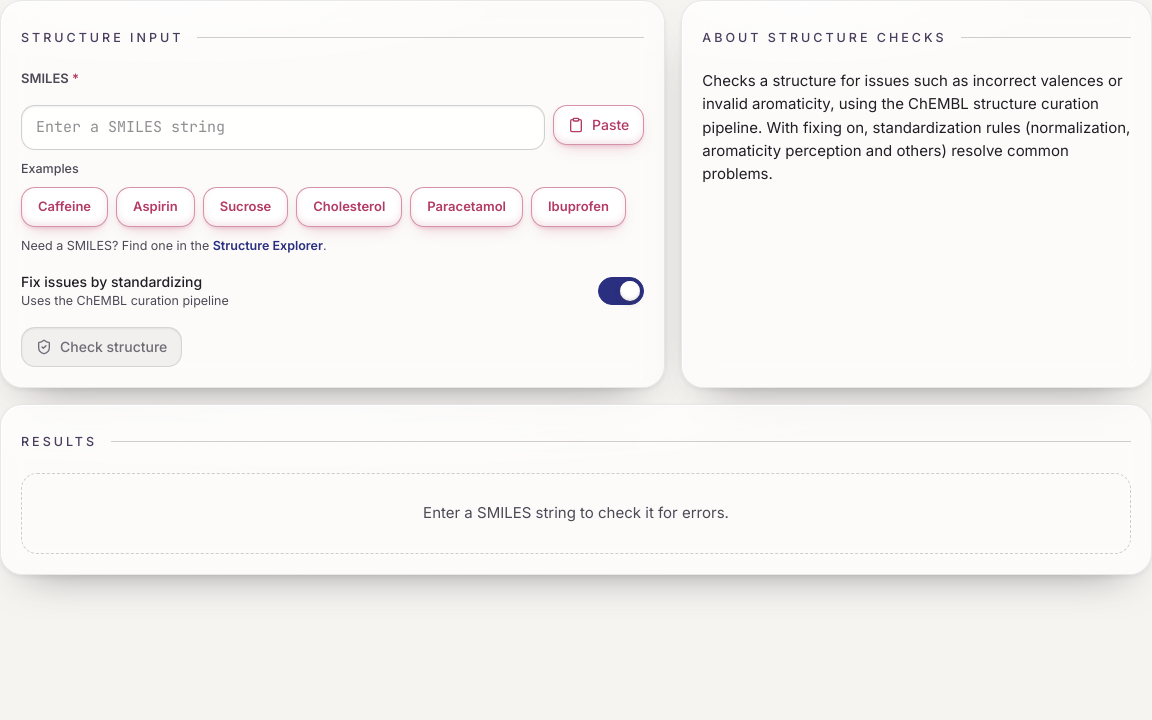
Scenario: StructureErrorView (bento) › reports the original and the standardized structure
Type "C1=CC=CC=C1" into the field labelled "SMILES *" at [283, 127], box [21,104,545,150]
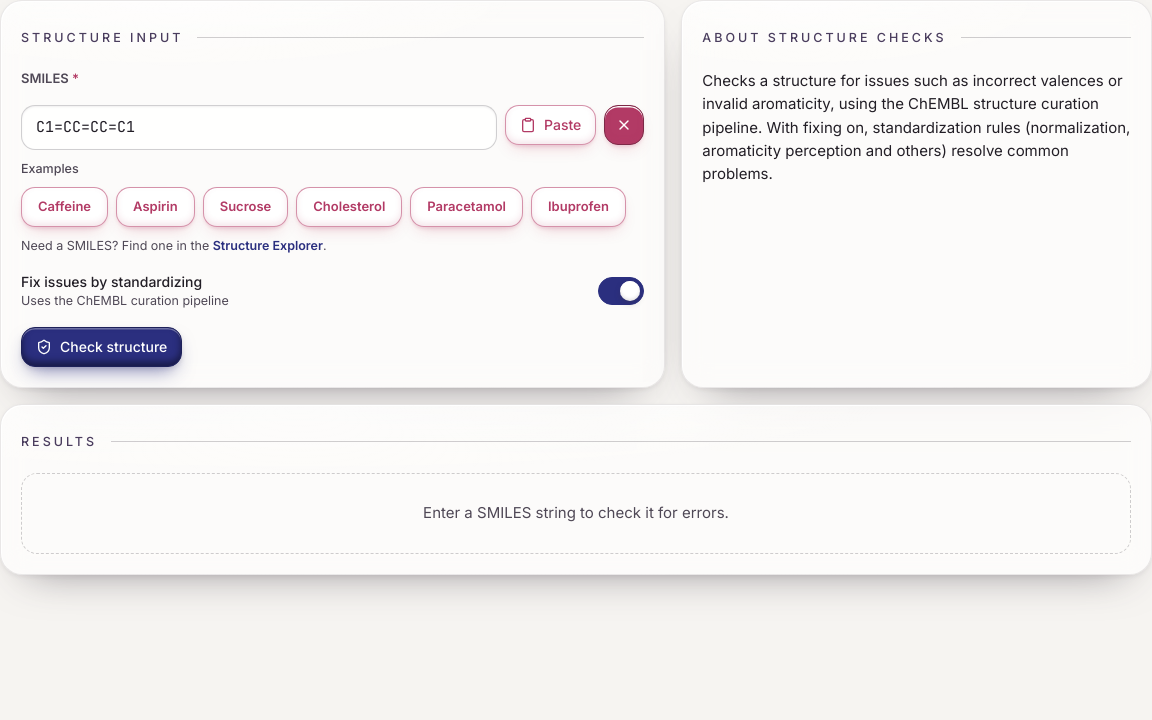
Click the button "Check structure" at [102, 347], box [21,327,182,367]
(page scrolled)
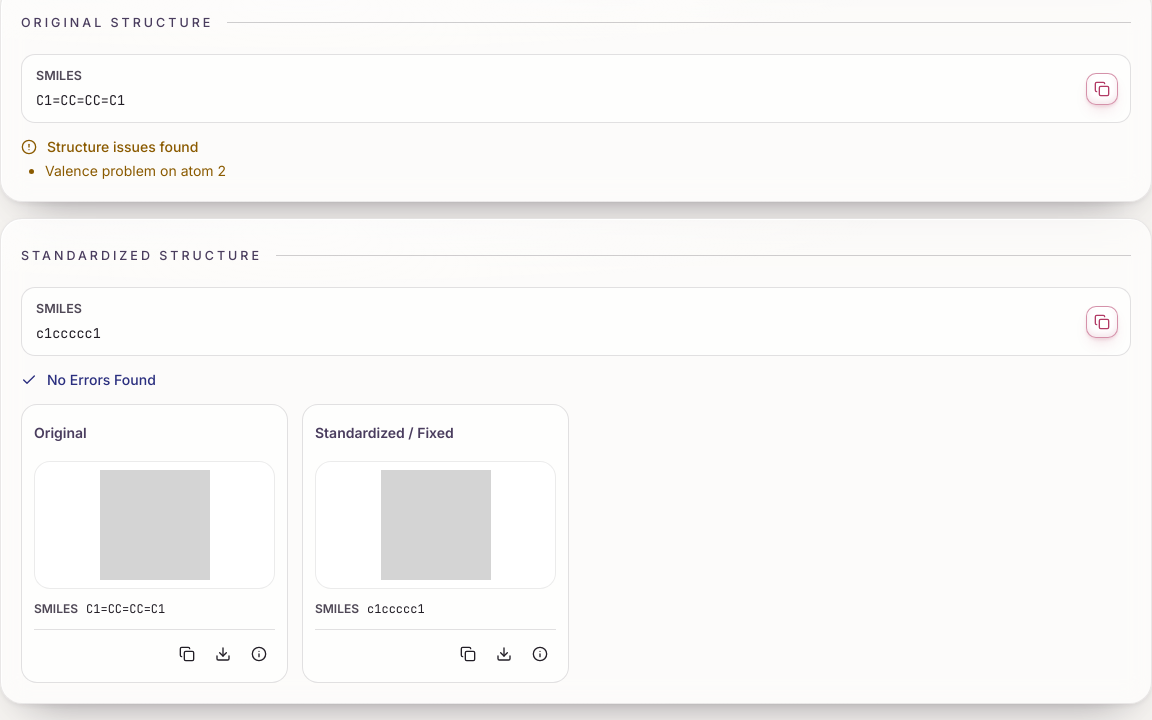
Result: the list item "Valence problem on atom 2" is shown at [45,162,226,179]
Result: the text "c1ccccc1" is shown at [36,324,101,342]
Result: the text "No Errors Found" is shown at [21,371,156,388]
